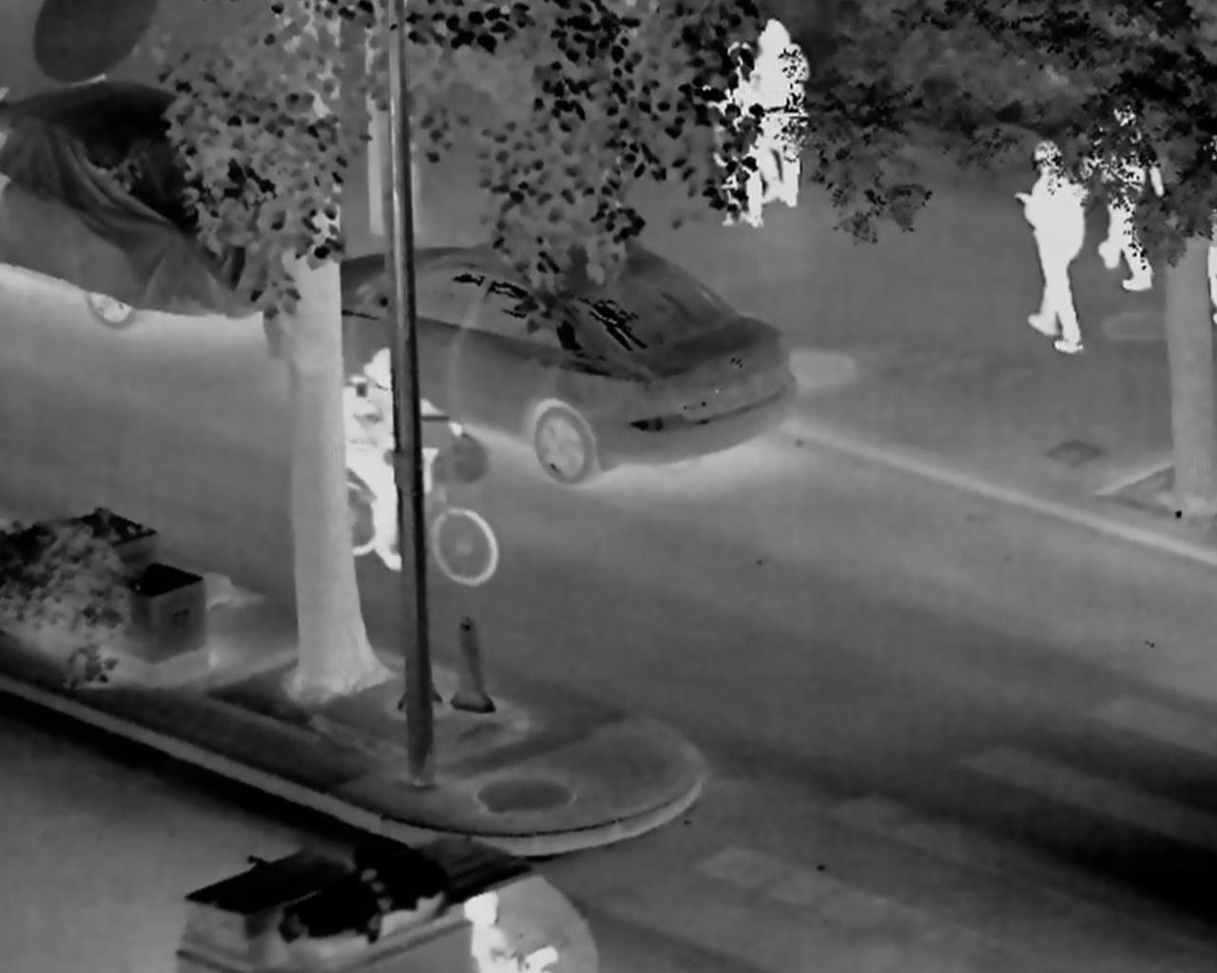person: (337, 346, 467, 575), (1081, 95, 1167, 295), (726, 12, 811, 208), (1014, 140, 1086, 353), (688, 39, 763, 226), (451, 889, 558, 973)
